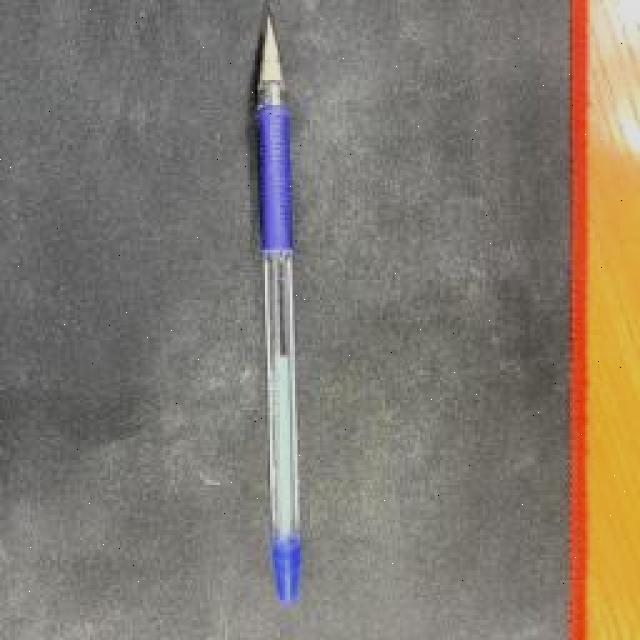pen: (253, 15, 308, 610)
